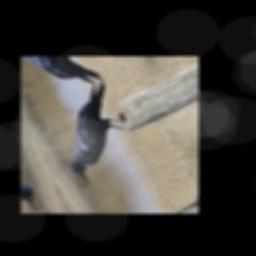Crow: (39, 78, 146, 188)
